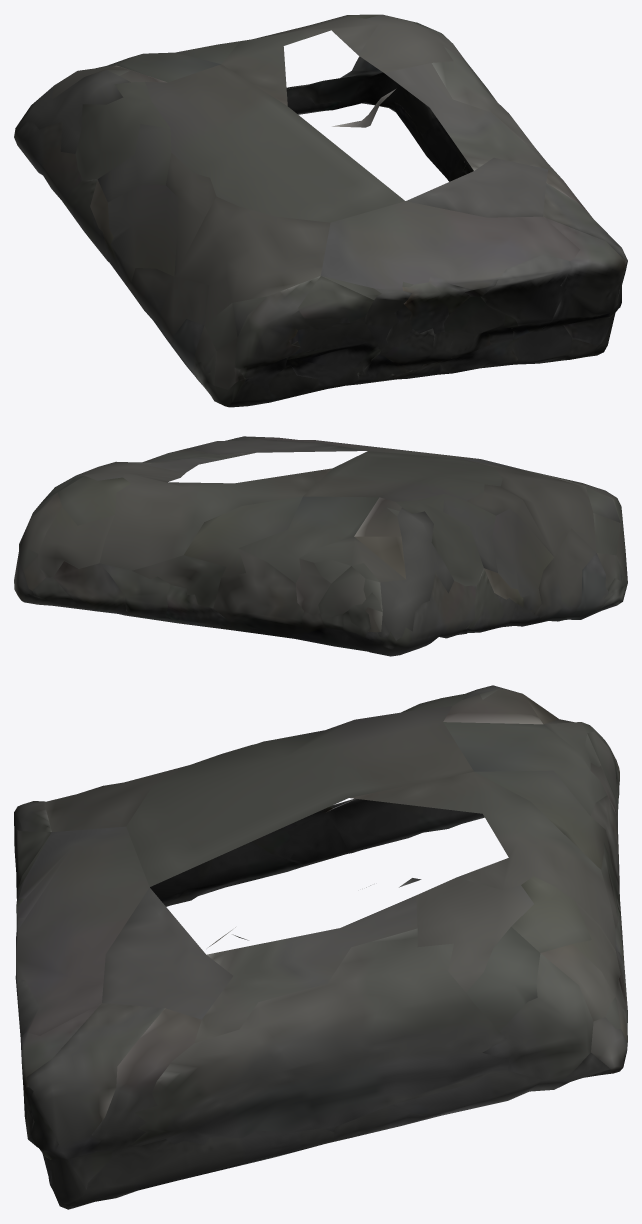
The model's file is hall.glb.
3 renders of one model, top to bottom at view 1: azimuth 30°, elevation 25°; view 2: azimuth 150°, elevation 25°; view 3: azimuth 270°, elevation 25°, orthographic. The views are drawn at different scales.
Size of the model in its own units: 0.6445 by 0.3593 by 0.6373.
Materials: 1 (1 with a texture image).
